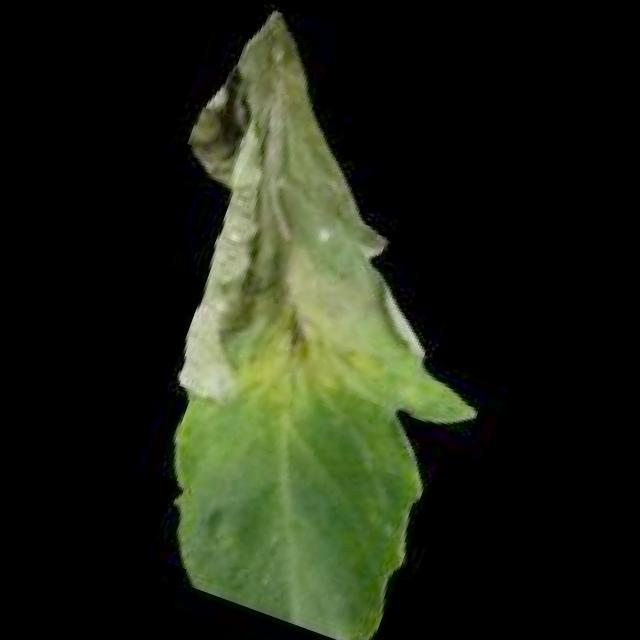Tomato healthy leaf: (42, 0, 589, 640)
